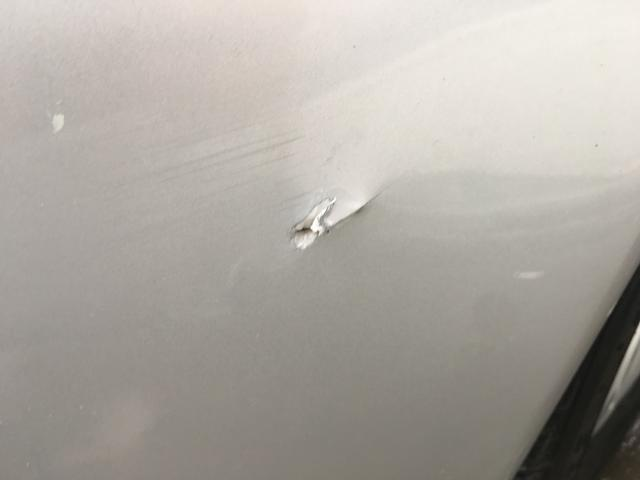scratch: (135, 112, 322, 221), (291, 191, 366, 250)
